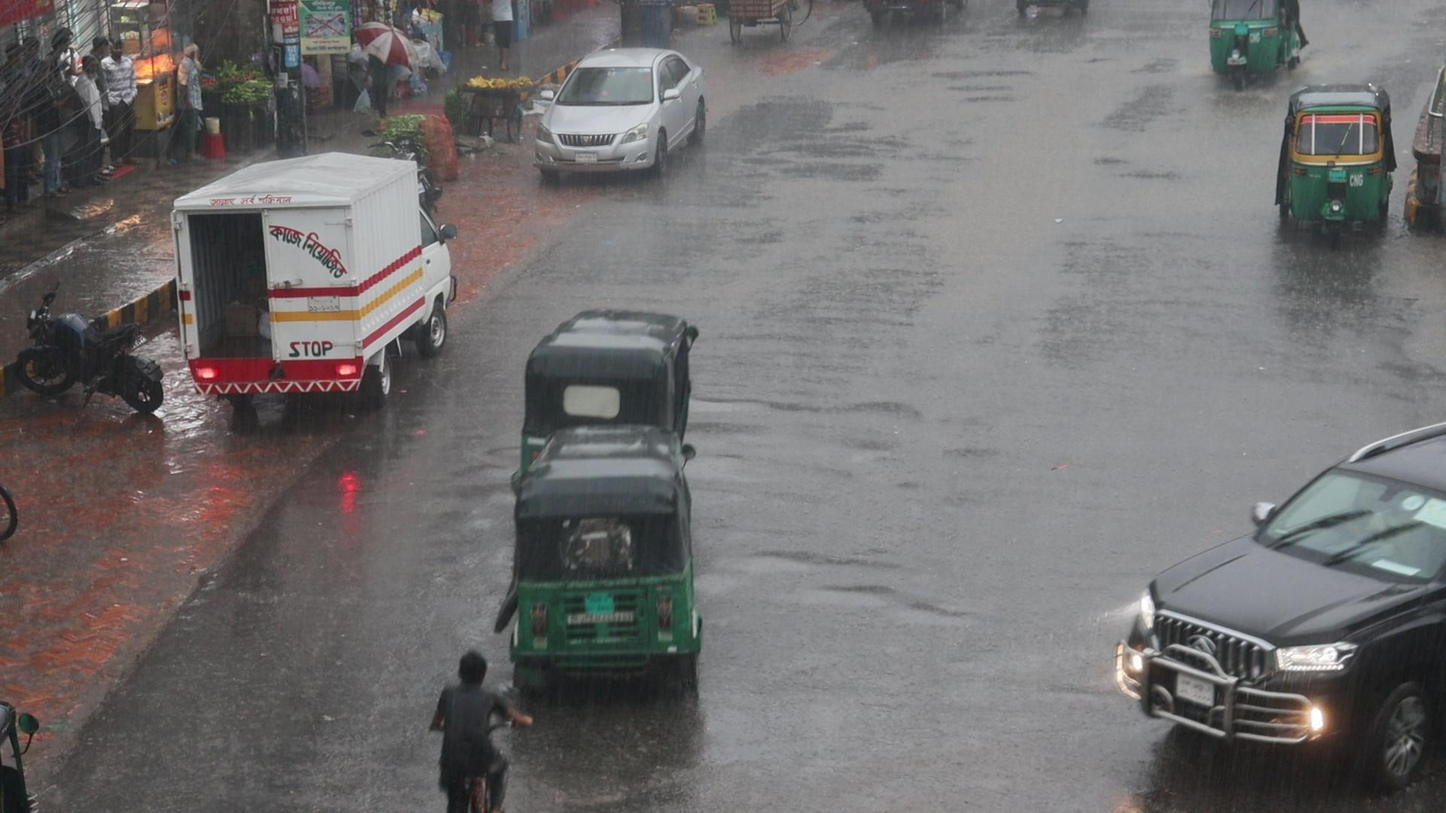Car: (1108, 423, 1446, 791), (532, 44, 710, 183)
